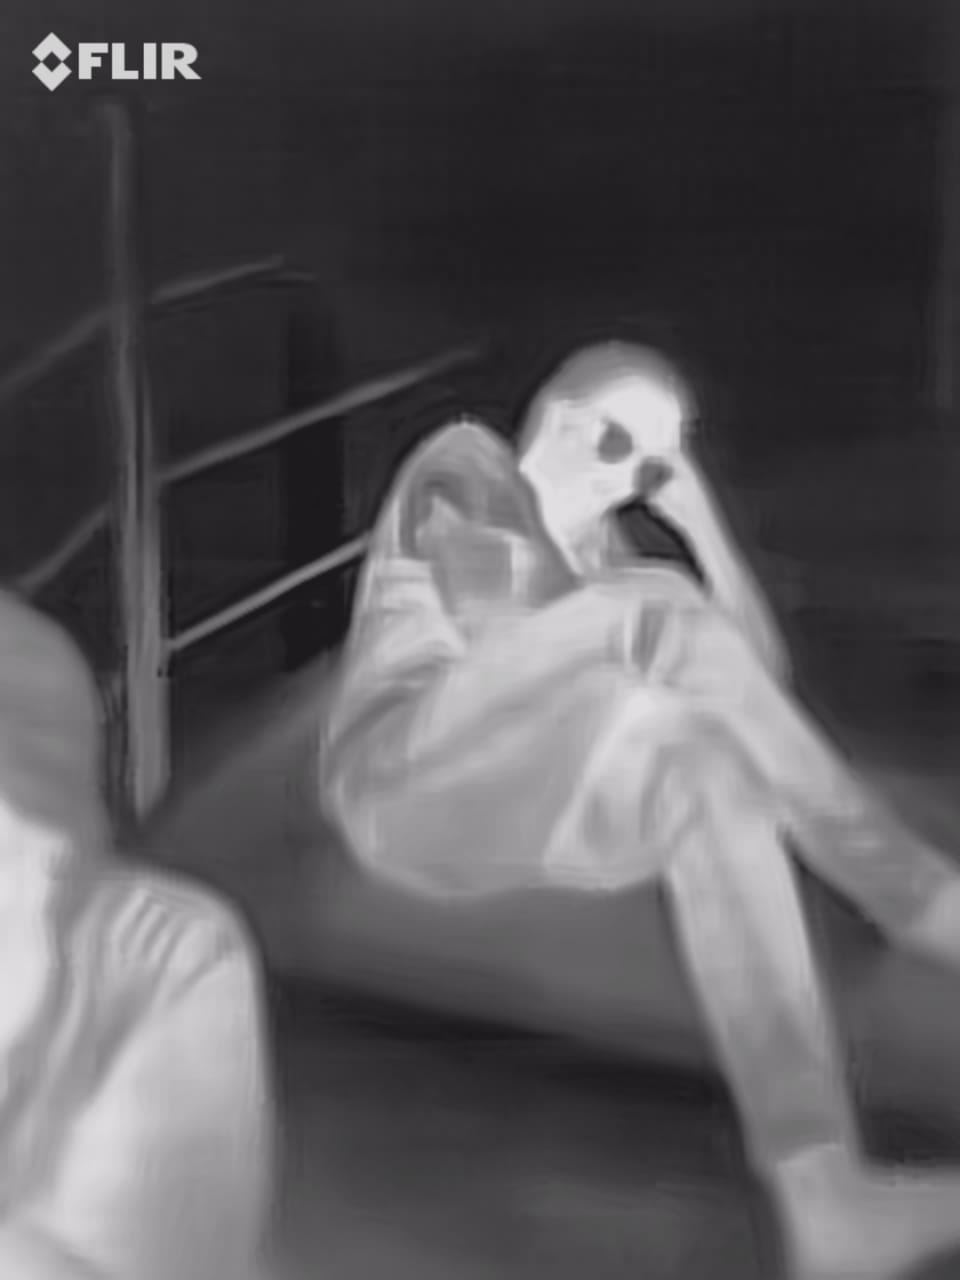head: (521, 334, 696, 546)
